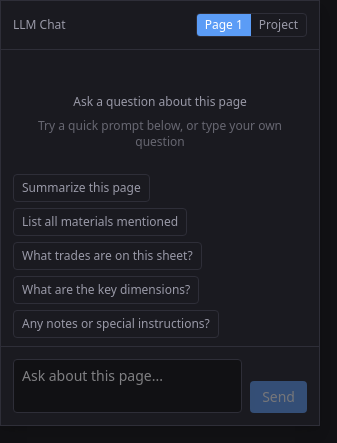
it: ChatPanel — send fetch rejection, the 4th append site (T-B4) › appends user echo then the network-catch Error message
Type "x" into the text box with placeholder "Ask about this page...".
click(128, 386); type("x")  # box [13, 359, 242, 413]
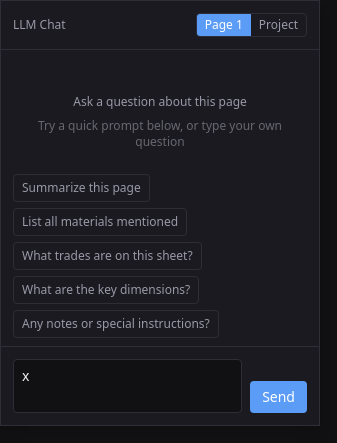
Click the button "Send".
click(279, 397)  # box [250, 381, 307, 413]
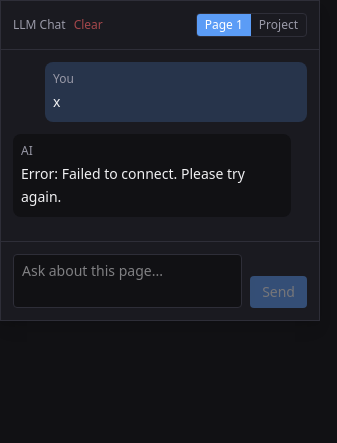
Now the text "AI" is shown once, box [21, 142, 33, 159]
